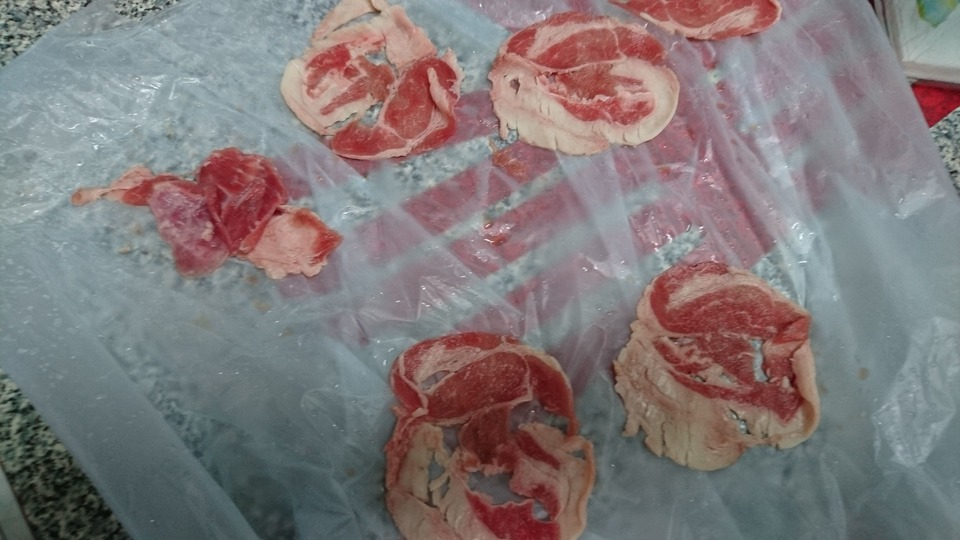restructured meat: (379, 325, 594, 540), (605, 254, 820, 469), (76, 148, 340, 283), (489, 4, 692, 155), (280, 1, 462, 157)
